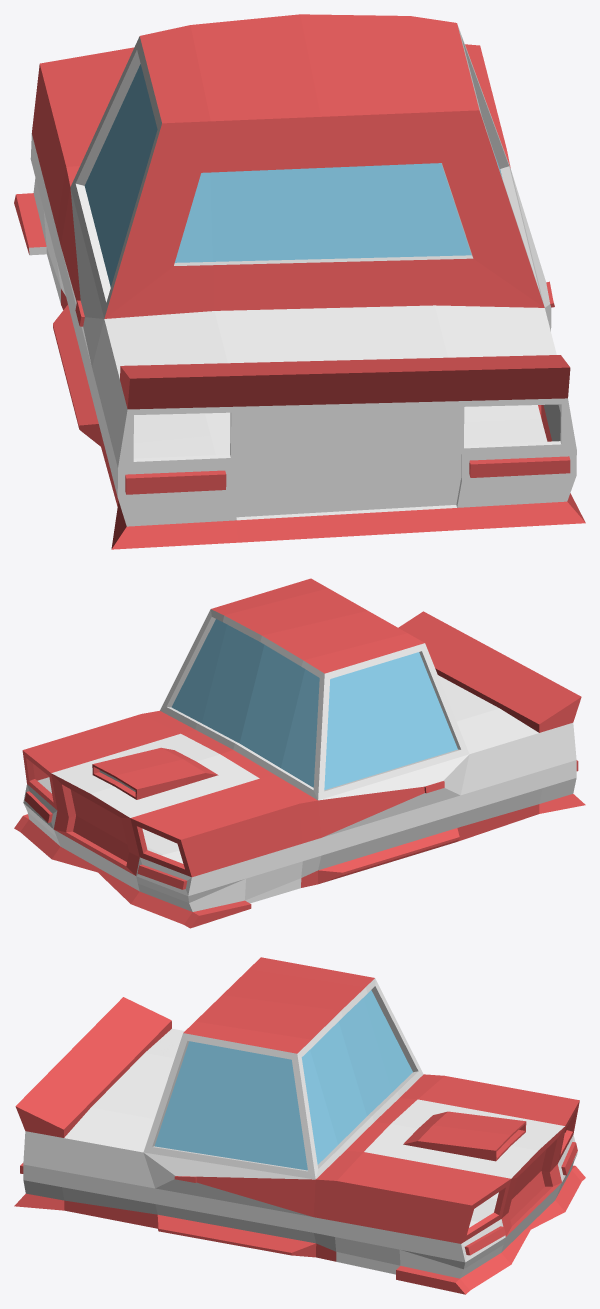
Rendered from rcar.fbx.
The picture shows the model from 3 angles, top to bottom: view 1: azimuth 30°, elevation 25°; view 2: azimuth 150°, elevation 25°; view 3: azimuth 270°, elevation 25°; orthographic projection. The views are drawn at different scales.
Parts seen in each view (by area): view 1: body; view 2: body; view 3: body.
Part boxes in pixels (x1,y1,x2,y2): body: (14, 14, 585, 549); body: (14, 578, 585, 928); body: (14, 957, 585, 1294).
Size of the model in its own units: 216 by 99.65 by 264.
